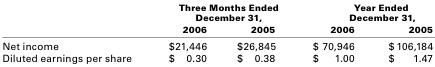table: (1, 1, 432, 64)
table column: (1, 1, 149, 64), (294, 1, 370, 64), (221, 1, 294, 64), (149, 1, 221, 64), (370, 1, 432, 64)
table column header: (1, 1, 432, 36)
table row: (1, 1, 432, 22), (1, 36, 432, 51), (1, 22, 432, 36), (1, 51, 432, 64)
table spanning cell: (149, 1, 294, 22), (294, 1, 432, 22)
